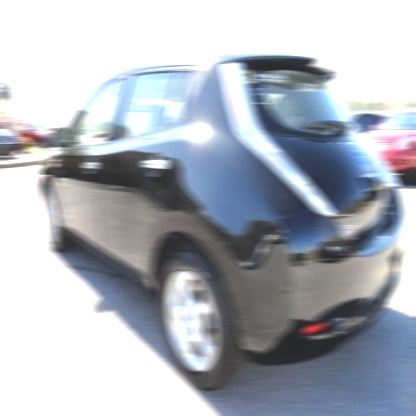Vehicle: (39, 49, 406, 396)
